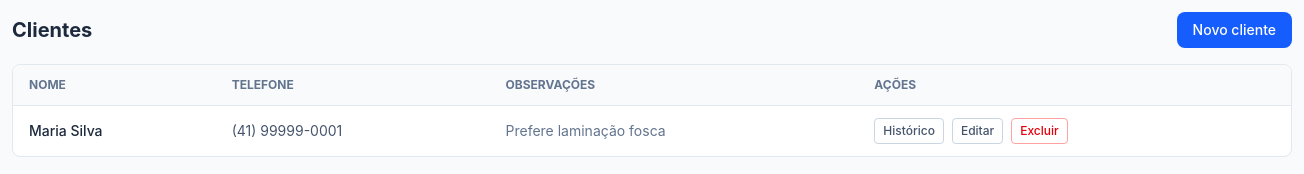
it: ClientesPage — excluir › exclui cliente após confirmação
The width and height of the screenshot is (1304, 174).
Expected: the text "Maria Silva" is shown, [13,106,216,156]
Click the button "Excluir": (1039, 131) [1011,118,1068,144]
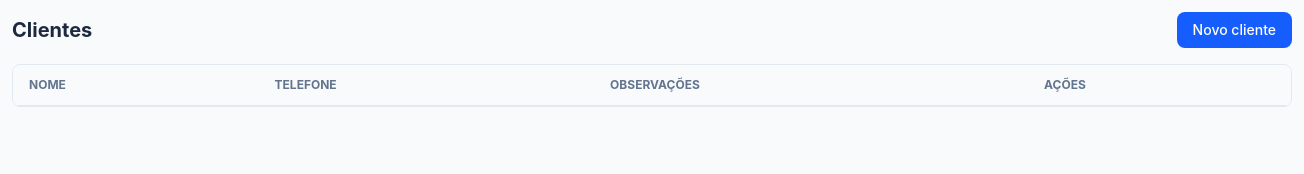
Expected: the text "Maria Silva" is gone
